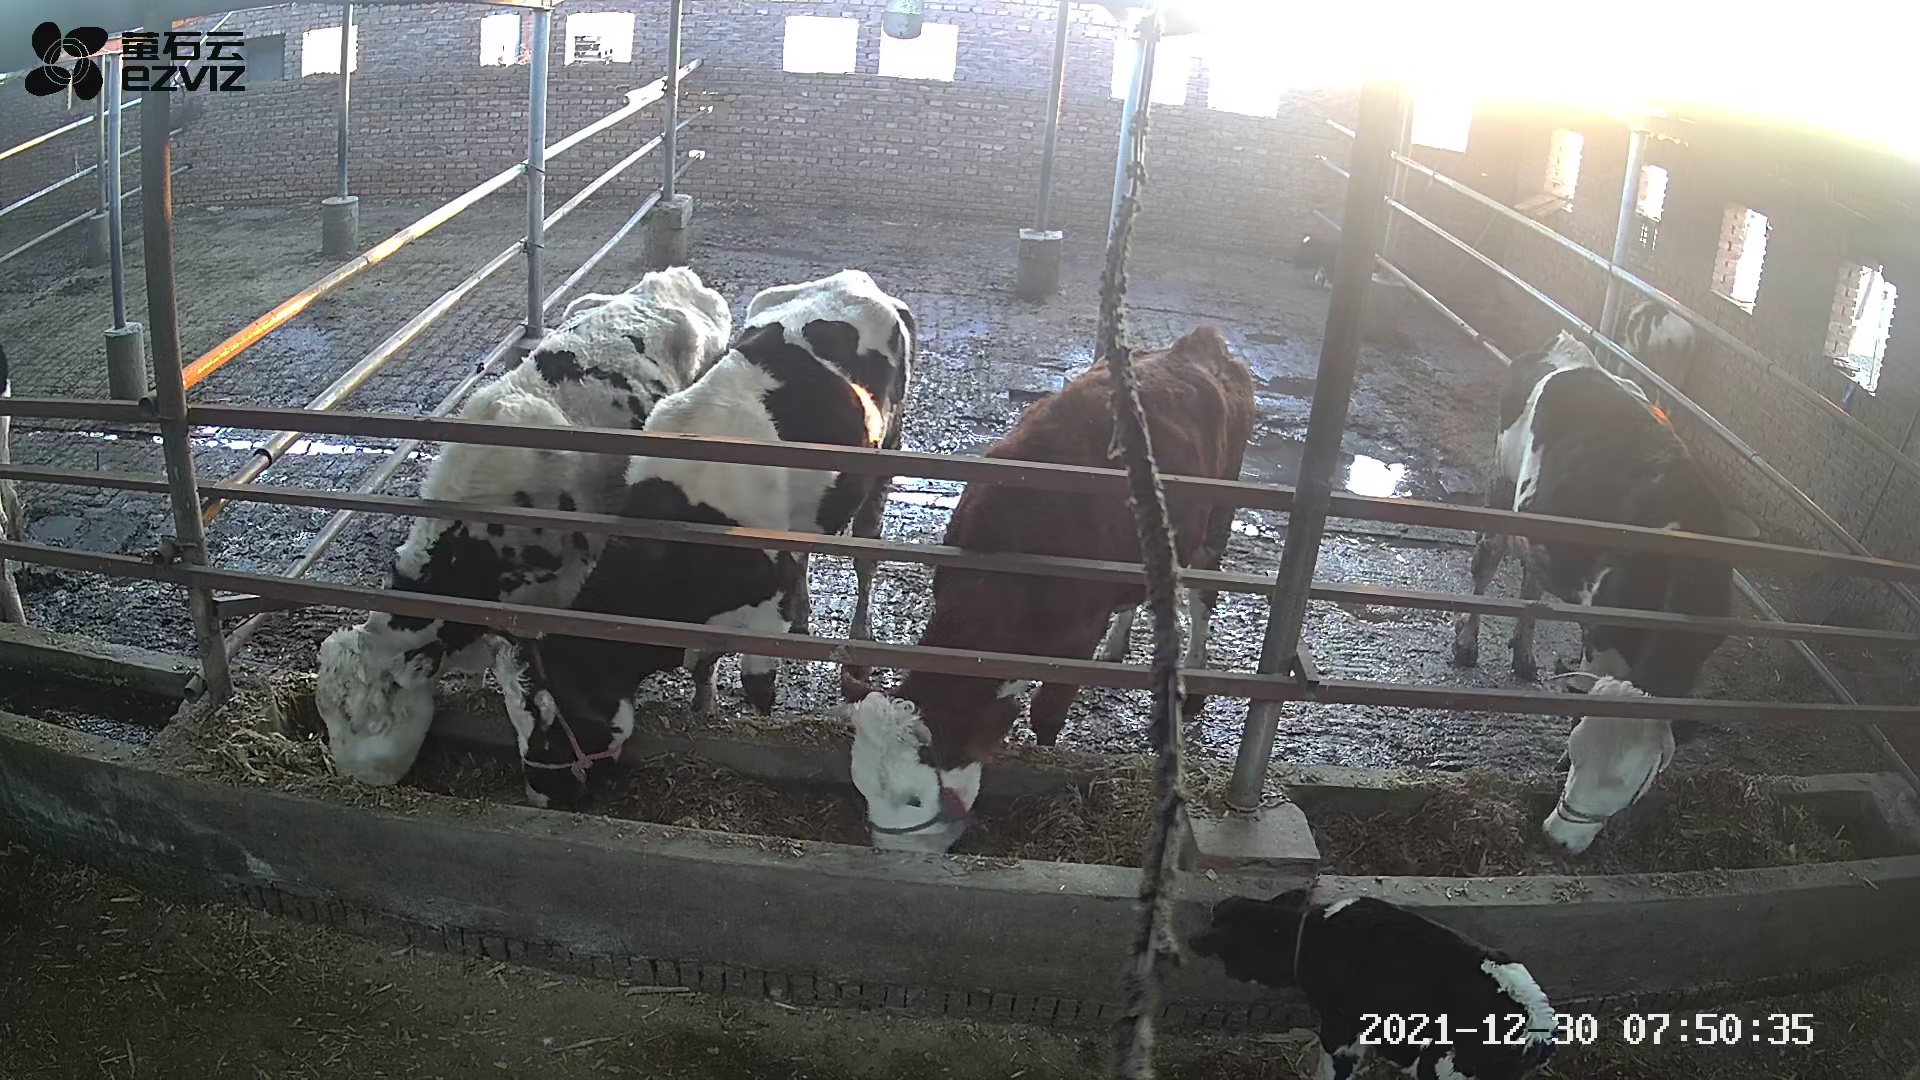cow: (481, 266, 916, 810), (313, 266, 733, 790), (841, 324, 1257, 852), (1451, 323, 1734, 857)
